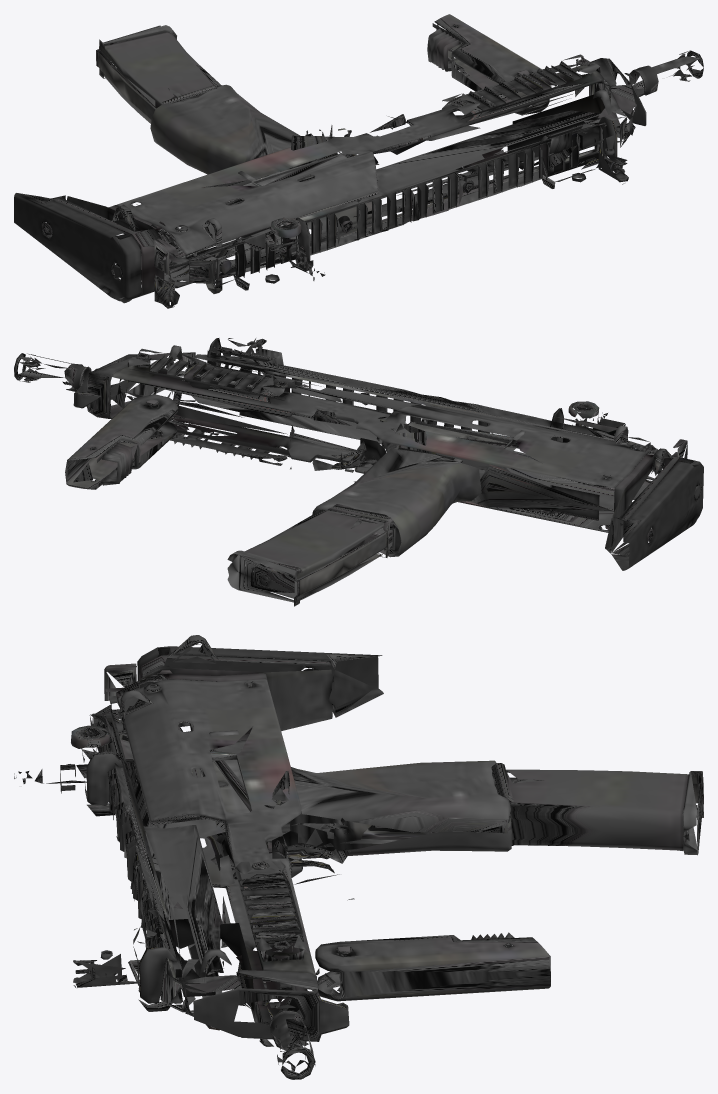
3 views of the same model, one above another, from view 1: azimuth 30°, elevation 25°; view 2: azimuth 150°, elevation 25°; view 3: azimuth 270°, elevation 25° (orthographic). The views are drawn at different scales.
Visible parts, largest first — view 1: w_mp7; view 2: w_mp7; view 3: w_mp7.
Boxes of the visible parts, box(x1,y1,x2,y2) form: w_mp7: box(14, 14, 703, 308); w_mp7: box(14, 338, 703, 606); w_mp7: box(14, 635, 703, 1079).
Size of the model in its own units: 0.5064 by 0.0719 by 0.3632.
Materials: 1 (1 with a texture image).
